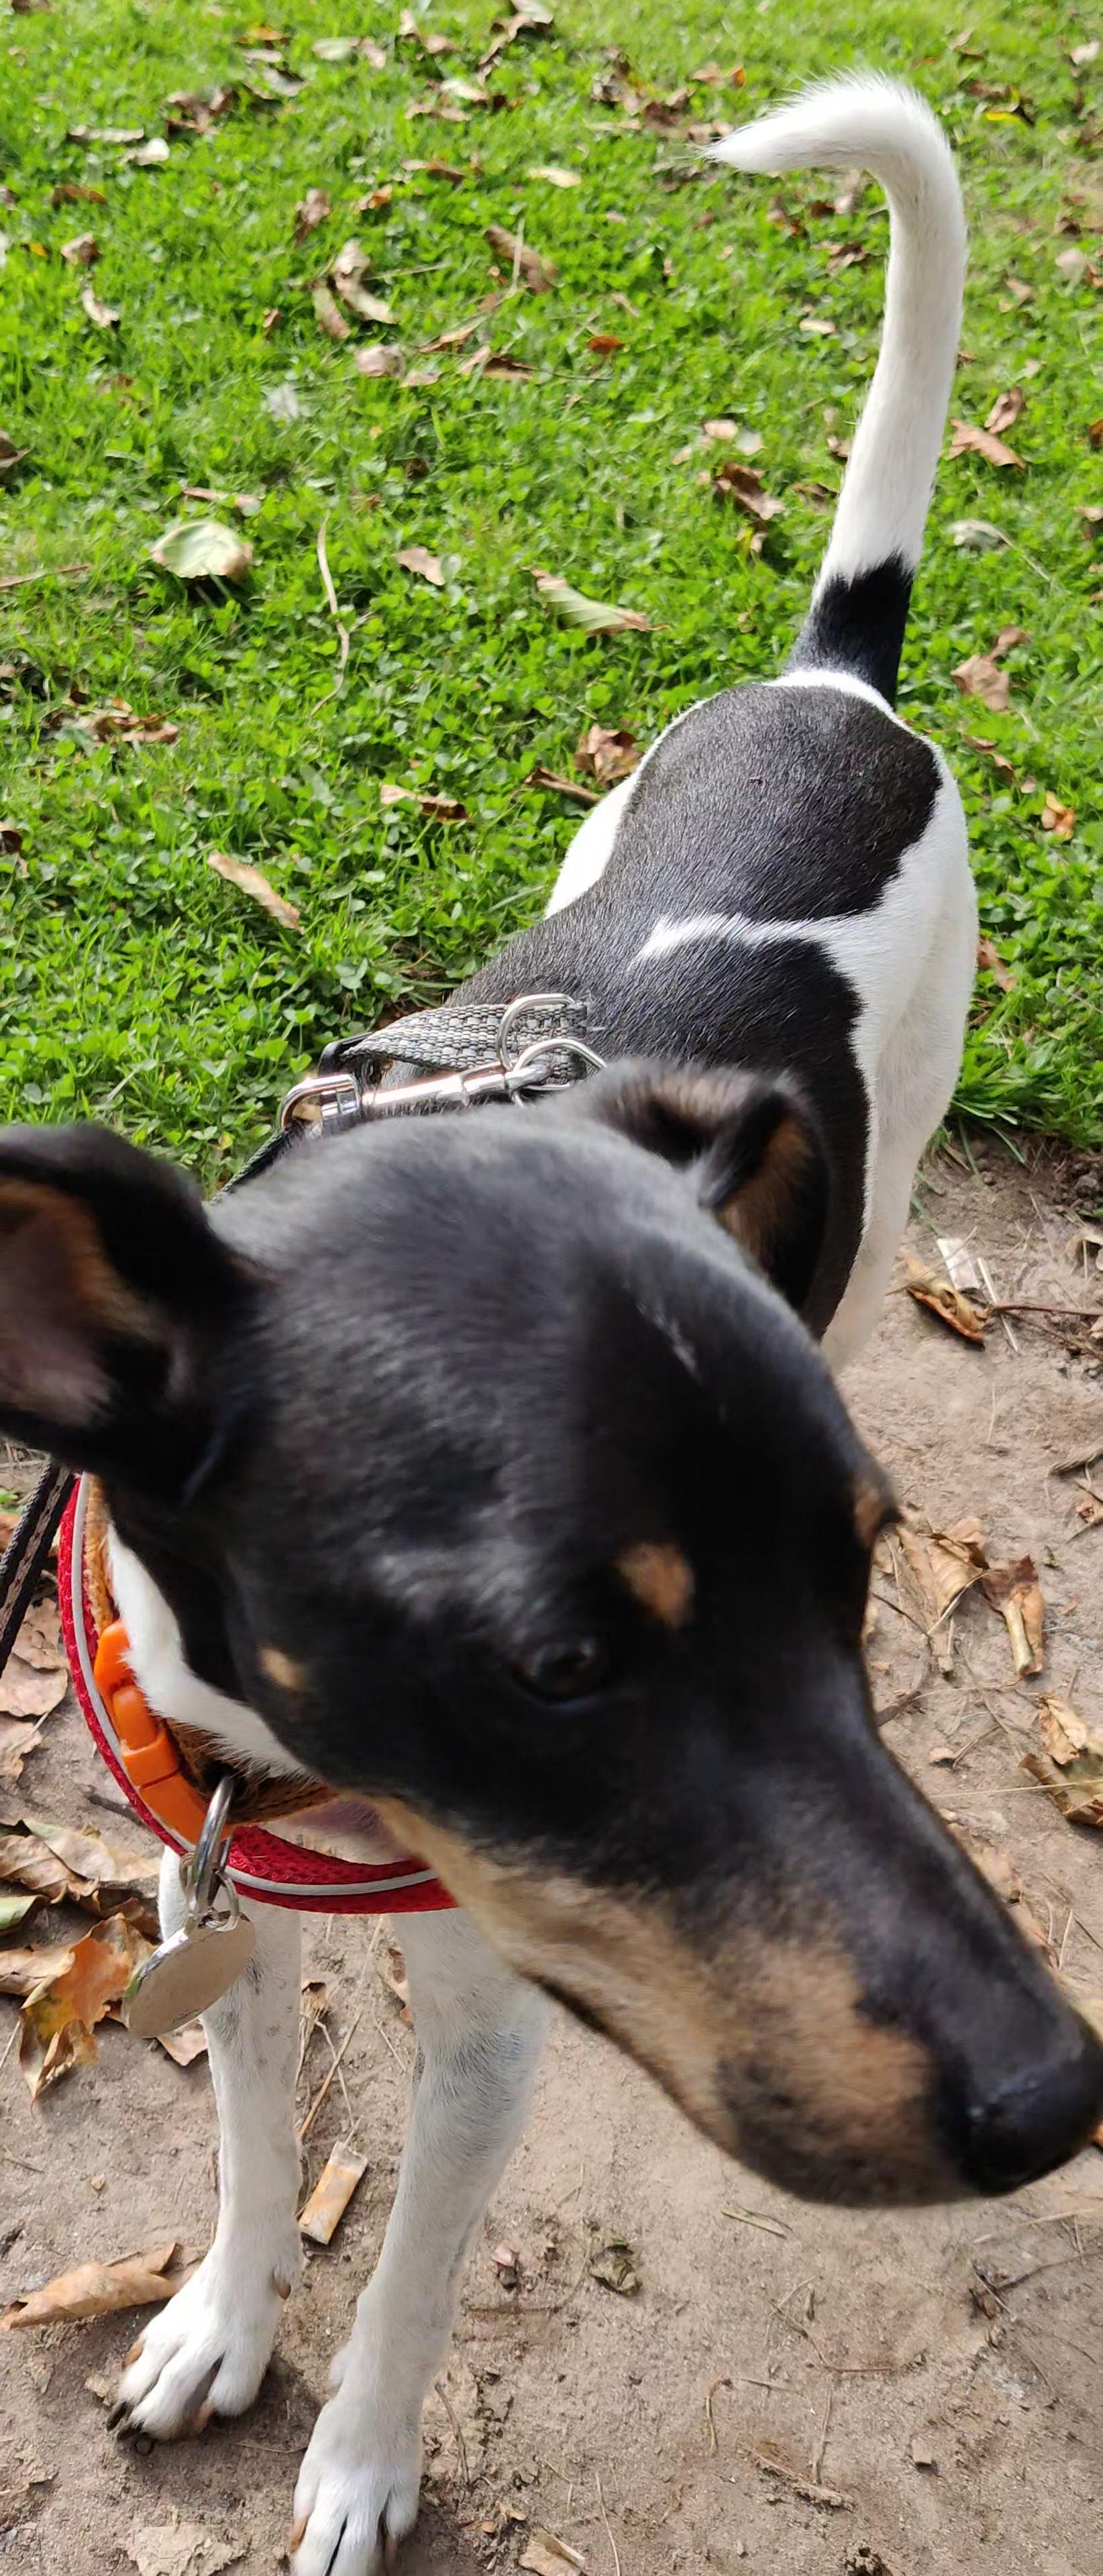Dog: (0, 62, 1103, 2576)
